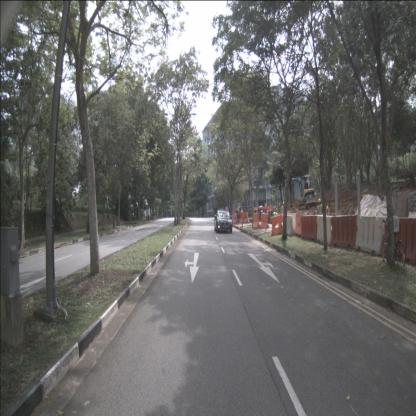human-pedestrian-adult: (150, 209, 152, 219)
movable_object-barrier: (385, 218, 415, 265), (355, 215, 385, 255), (331, 215, 358, 248), (316, 215, 333, 245), (300, 215, 318, 241), (279, 216, 295, 237), (270, 215, 286, 235), (294, 214, 306, 236), (286, 214, 298, 234), (260, 213, 270, 228), (252, 213, 260, 228), (240, 212, 249, 223), (232, 213, 238, 224)
vehicle-bicycle: (381, 219, 406, 268)
vehicle-car: (214, 209, 233, 233)
